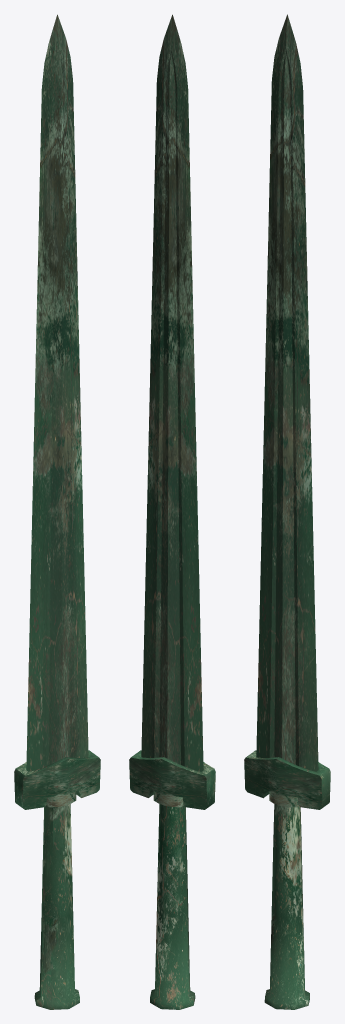
The picture shows the model from 3 angles, left to right: view 1: azimuth 30°, elevation 25°; view 2: azimuth 150°, elevation 25°; view 3: azimuth 330°, elevation 25°; orthographic projection.
Visible parts, largest first — view 1: Ob2; view 2: Ob2; view 3: Ob2.
Boxes of the visible parts, bbox=[...] form: Ob2: bbox=[14, 14, 100, 1009]; Ob2: bbox=[129, 14, 215, 1009]; Ob2: bbox=[244, 14, 330, 1009].
Size of the model in its own units: 25.32 by 308 by 13.14.
1 material, 1 textured.
